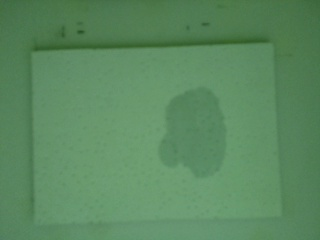Water_detected: (166, 103, 218, 171)
